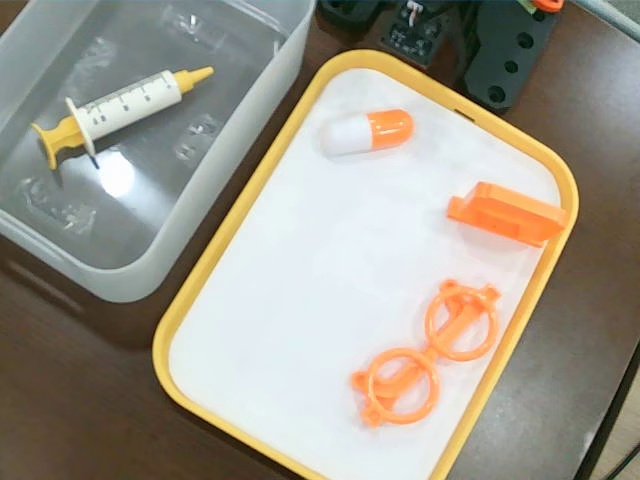pill: (318, 107, 413, 157)
syringe: (30, 67, 215, 171)
